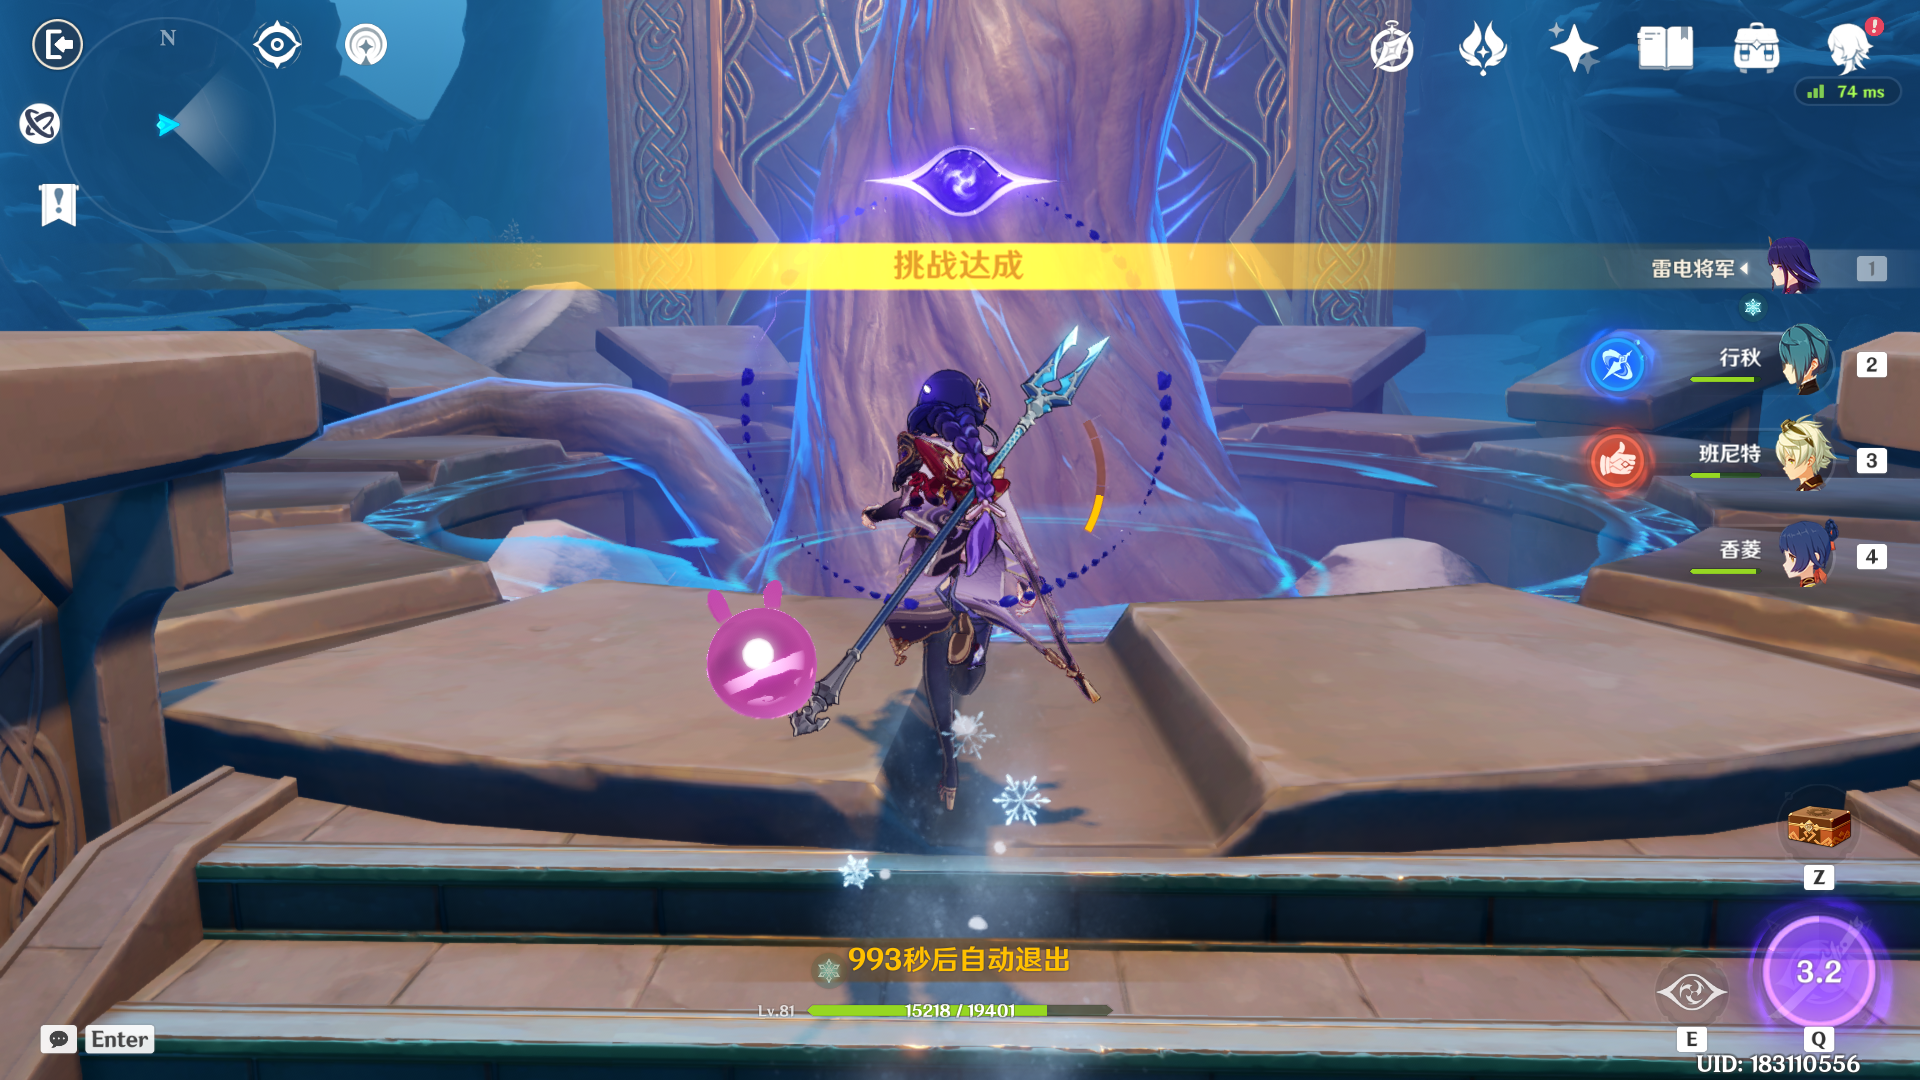character: (742, 270, 1154, 829)
